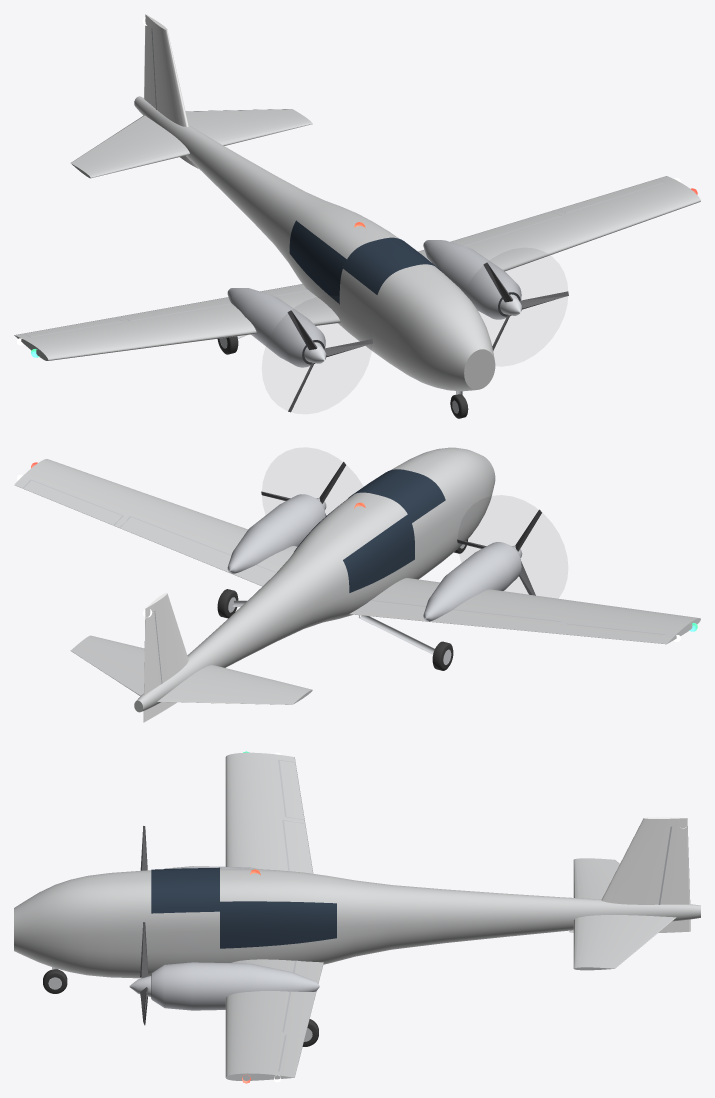
The picture shows the model from 3 angles, top to bottom: view 1: azimuth 30°, elevation 25°; view 2: azimuth 150°, elevation 25°; view 3: azimuth 270°, elevation 25°; orthographic projection.
Parts seen in each view (by area): view 1: airframe, prop (×2), gear; view 2: airframe, gear, prop; view 3: airframe, gear, prop.
Part boxes in pixels (<box>): airframe: <box>14,14,700,391</box>; prop (×2): <box>287,262,568,412</box>; gear: <box>217,335,468,418</box>; airframe: <box>14,447,700,722</box>; gear: <box>217,539,467,670</box>; prop: <box>457,509,541,595</box>; airframe: <box>14,751,700,1083</box>; gear: <box>43,967,318,1046</box>; prop: <box>140,922,148,1025</box>.
Bounding box in the file's own units: 11.82 × 3.01 × 10.5.
